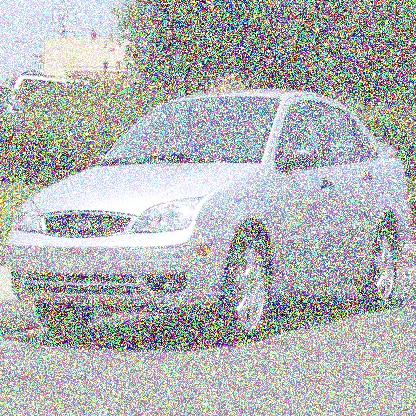Vehicle: (5, 89, 409, 337)
